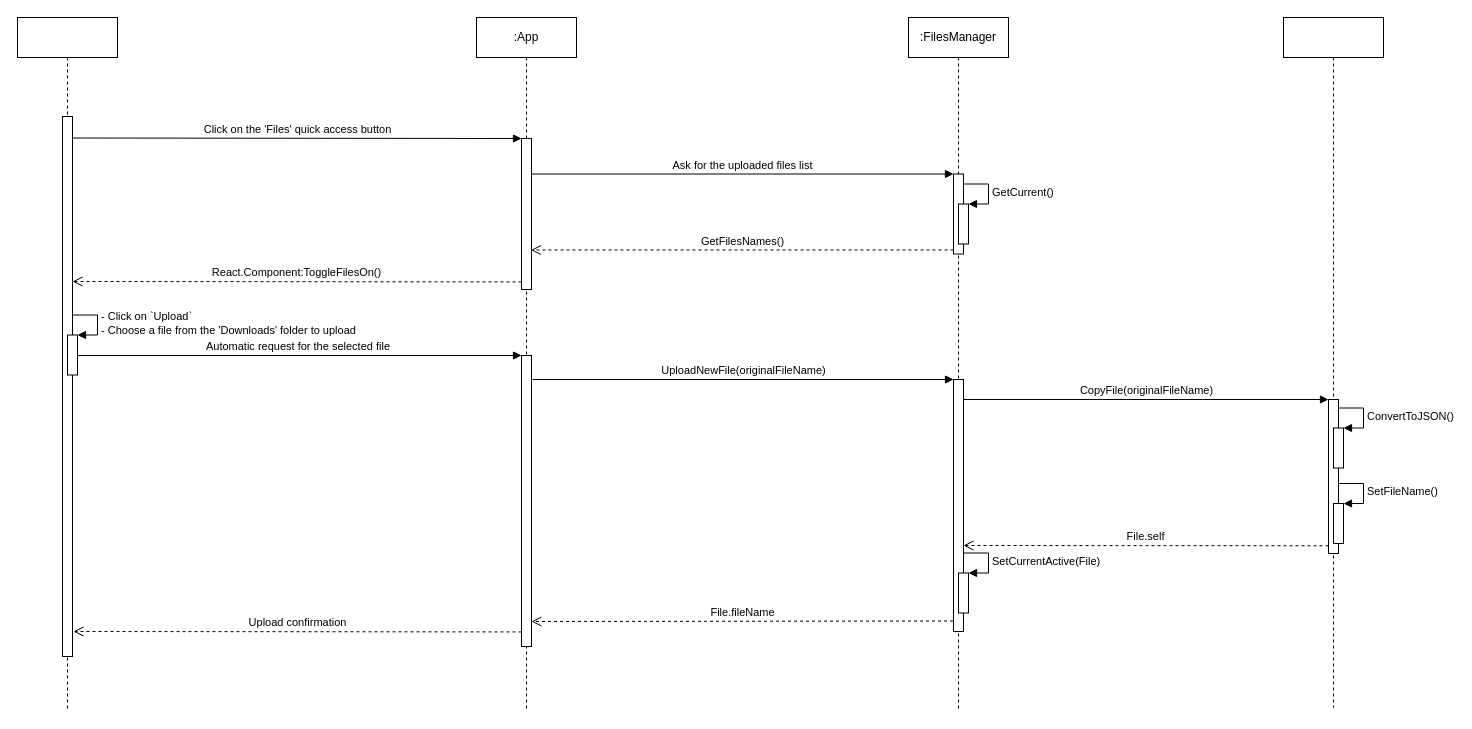
The diagram is 1472 pixels wide and 729 high, and some of its shapes have lost their labels. Each missing label, with the box of its shape:
:File: (1282, 16, 1384, 708)
:User: (16, 16, 118, 712)
